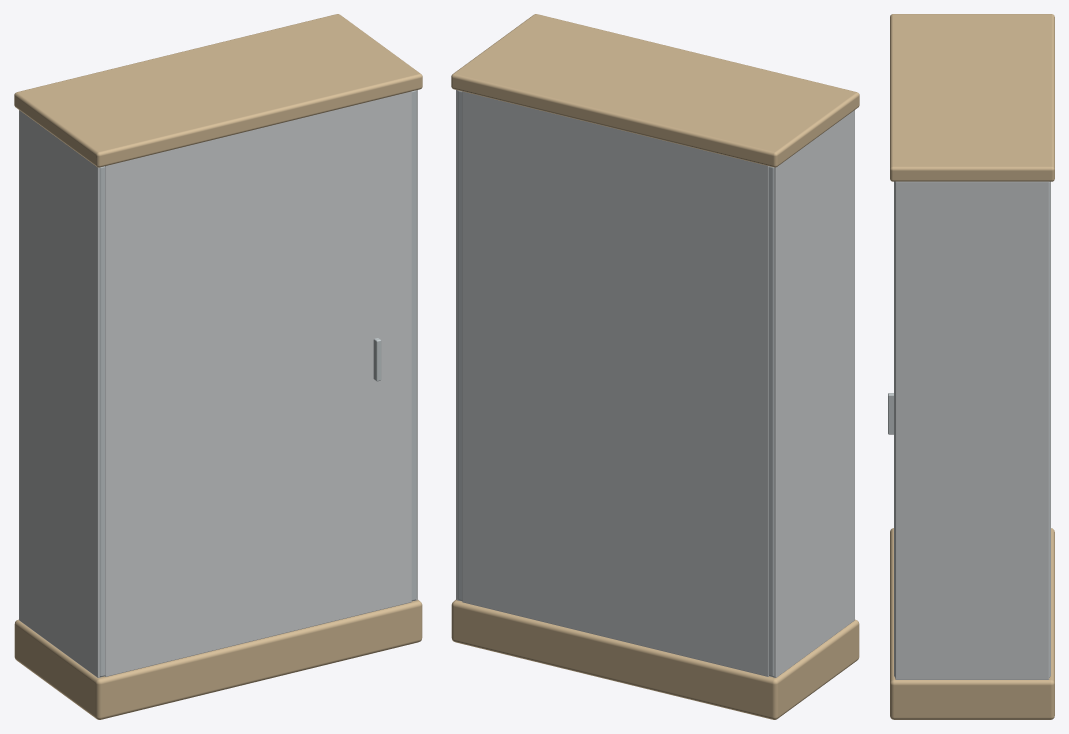
File: tabletop-hobby-store-and-club-miniature-display-cabine-99998c3b__31573.glb
3 views of the same model, side by side, from view 1: azimuth 30°, elevation 25°; view 2: azimuth 150°, elevation 25°; view 3: azimuth 270°, elevation 25° (orthographic). The views are drawn at different scales.
Visible parts, largest first — view 1: miniature-display-cabinet; view 2: miniature-display-cabinet; view 3: miniature-display-cabinet.
Boxes of the visible parts, box(x1,y1,x2,y2) form: miniature-display-cabinet: box(14, 14, 422, 719); miniature-display-cabinet: box(451, 14, 859, 719); miniature-display-cabinet: box(888, 14, 1054, 719).
Size of the model in its own units: 1 by 1.66 by 0.455.
